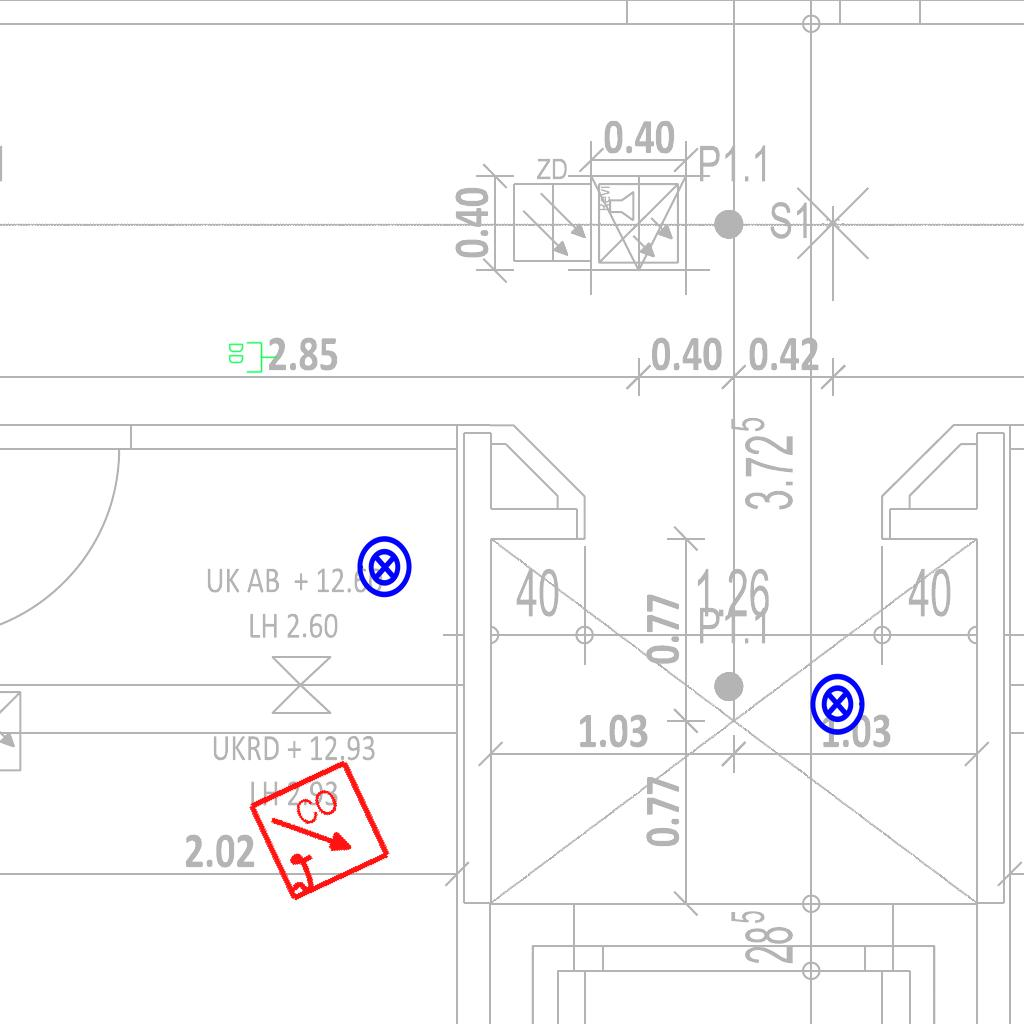Datenanschluss_zweifach: (227, 340, 278, 374)
ROA_Rauchmelder_optisch_mit_Signalgeber_(Sockelsirene): (245, 756, 396, 907)
Taster_beleuchtet: (804, 671, 870, 737), (352, 534, 418, 600)
